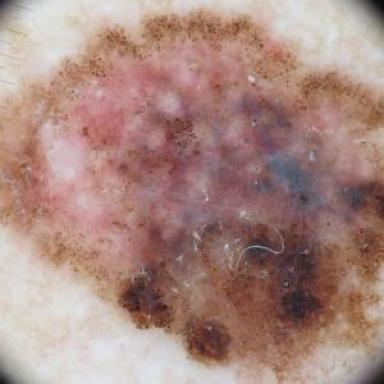Melanoma: (0, 7, 384, 384)
